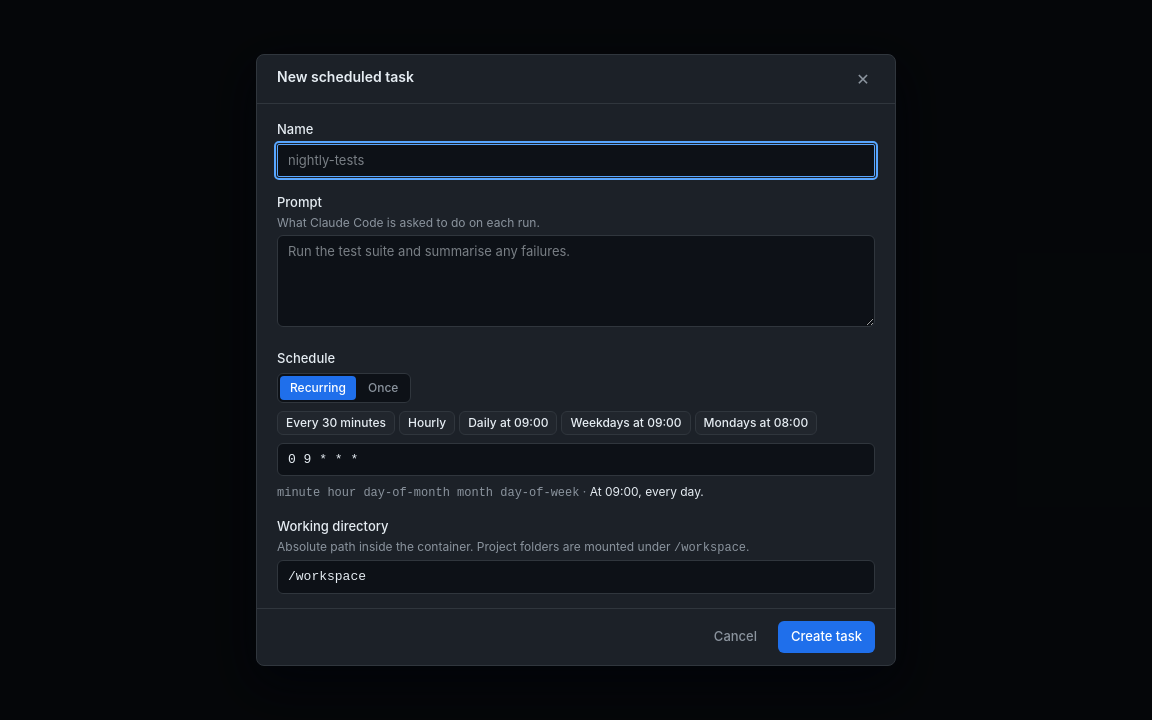
Test: TaskEditorModal › refuses a relative working directory
Step 1. Type "nightly" into the field labelled "Name" → (576,160), box [277,144,875,177]
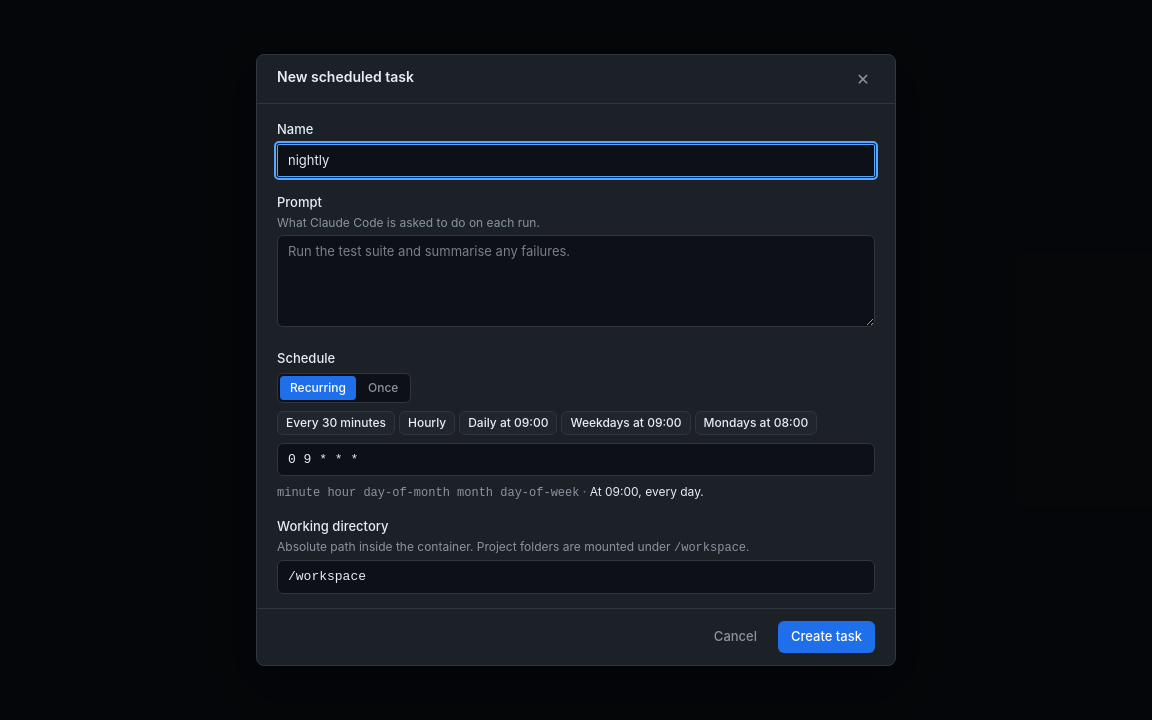
Step 2. Type "do the thing" into the text box labelled "Prompt" → (576,281), box [277,235,875,327]
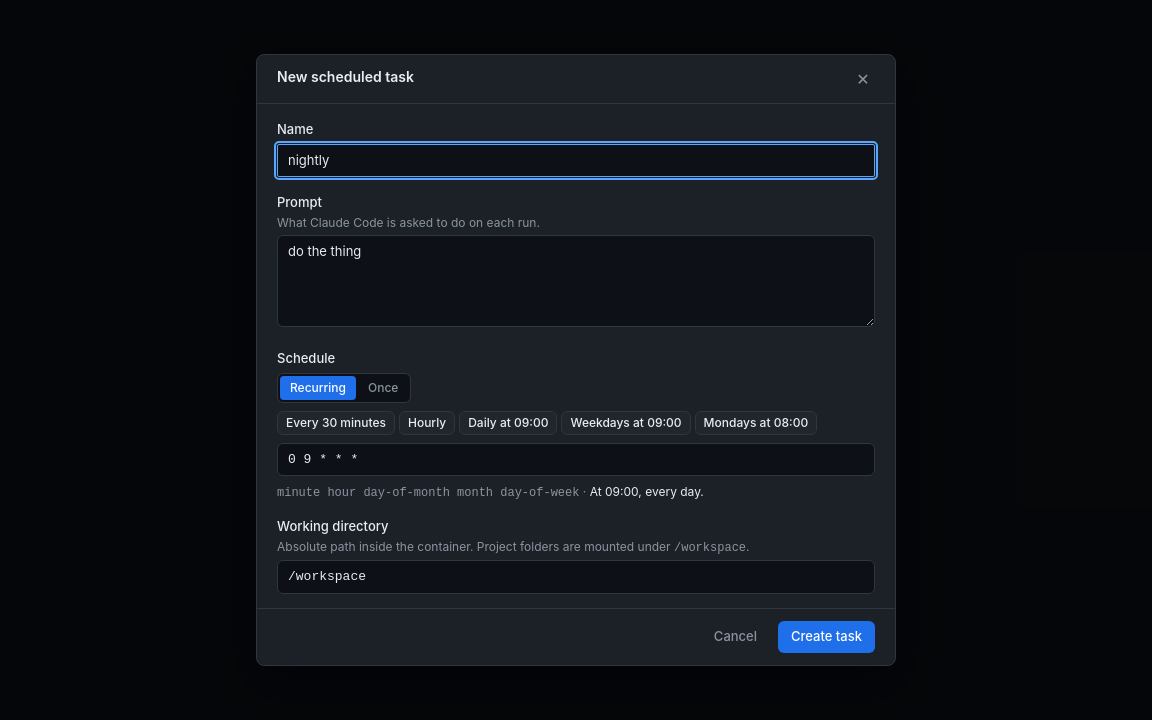
Step 3. Type "relative/path" into the field labelled "Working directory" → (576,577), box [277,560,875,594]
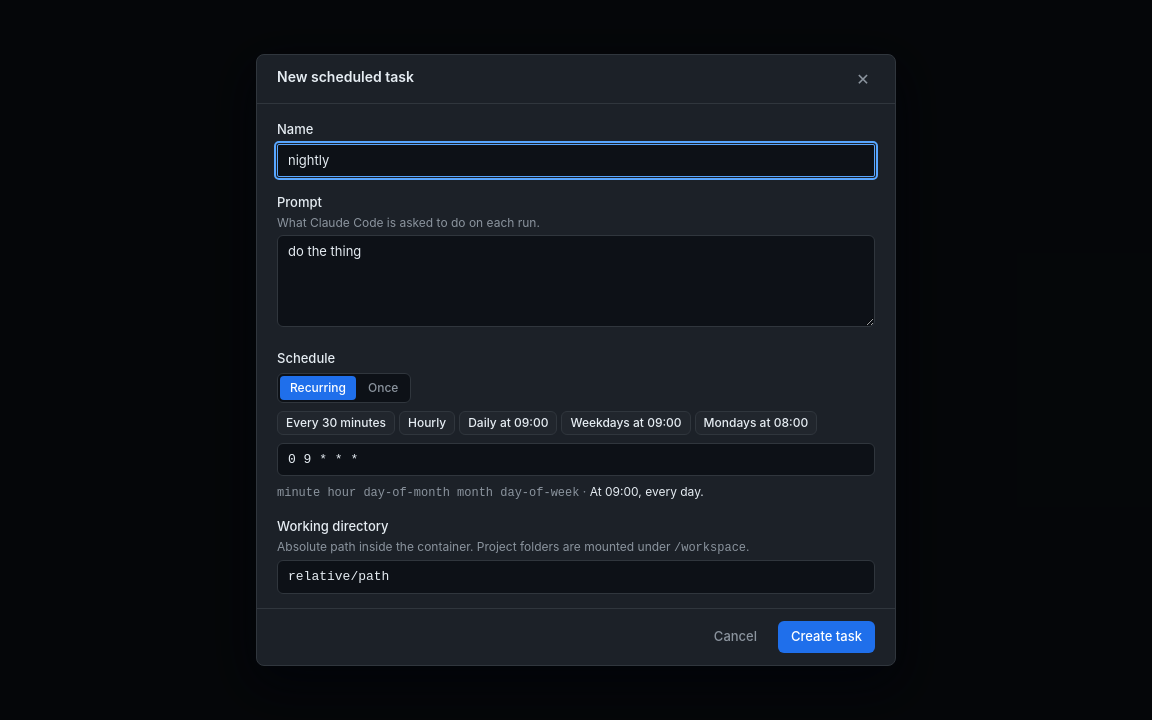
Step 4. Click the button "Create task" → (826,637), box [778,621,875,653]
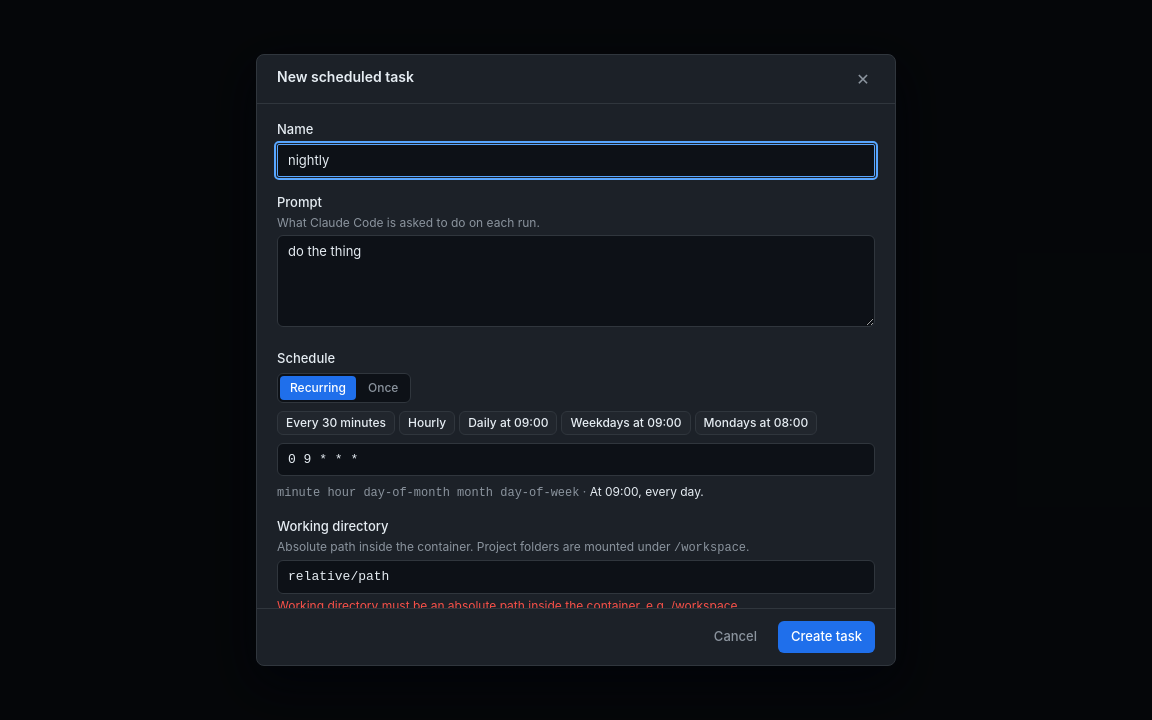
Now the message shows "absolute path", box [277,598,741,608]
